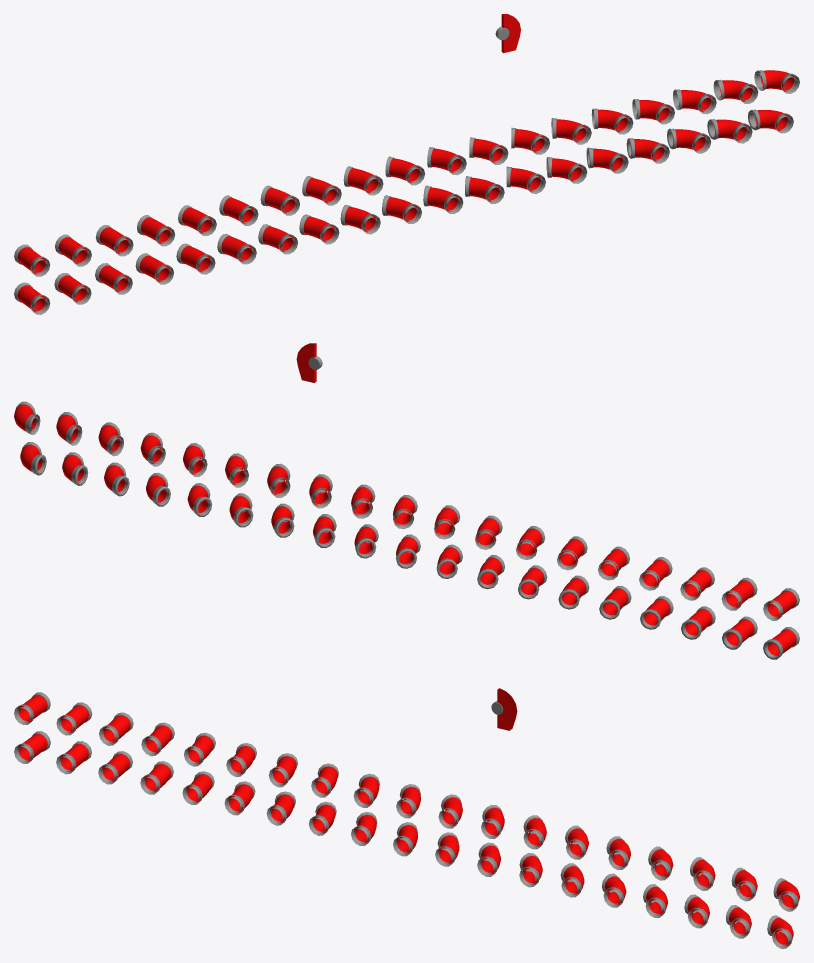
The model's file is Assets_12_pipes_door_ID.FBX.
The picture shows the model from 3 angles, top to bottom: view 1: azimuth 30°, elevation 25°; view 2: azimuth 150°, elevation 25°; view 3: azimuth 330°, elevation 25°; orthographic projection.
Parts seen in each view (by area): view 1: Pipe_END_90, Pipe_90, Pipe_END_85, Pipe_85, Pipe_END_80, Pipe_80, Pipe_END_75, Pipe_75, Pipe_END_70, Pipe_70, Pipe_END_65, Pipe_65 (+27 smaller); view 2: Door_4x4_R, Pipe_END_0, Pipe_0, Pipe_END_5, Pipe_5, Pipe_END_10, Pipe_10, Pipe_END_15, Pipe_15, Pipe_20, Pipe_END_20, Pipe_END_25 (+27 smaller); view 3: Door_4x4_R, Pipe_END_0, Pipe_0, Pipe_5, Pipe_END_5, Pipe_10, Pipe_END_10, Pipe_END_15, Pipe_15, Pipe_END_20, Pipe_20, Pipe_END_25 (+27 smaller).
Part boxes in pixels (<box>): Pipe_END_90: <box>748,109,793,133</box>; Pipe_90: <box>754,70,799,93</box>; Pipe_END_85: <box>707,119,752,143</box>; Pipe_85: <box>713,79,758,103</box>; Pipe_END_80: <box>667,128,710,153</box>; Pipe_80: <box>673,89,716,114</box>; Pipe_END_75: <box>626,138,669,163</box>; Pipe_75: <box>632,99,674,124</box>; Pipe_END_70: <box>586,147,628,173</box>; Pipe_70: <box>591,108,633,134</box>; Pipe_END_65: <box>546,157,587,183</box>; Pipe_65: <box>551,118,591,144</box>; Door_4x4_R: <box>296,343,322,382</box>; Pipe_END_0: <box>763,627,799,659</box>; Pipe_0: <box>763,588,799,620</box>; Pipe_END_5: <box>722,616,757,649</box>; Pipe_5: <box>721,577,757,610</box>; Pipe_END_10: <box>681,606,715,639</box>; Pipe_10: <box>680,567,714,600</box>; Pipe_END_15: <box>640,596,673,629</box>; Pipe_15: <box>639,557,672,590</box>; Pipe_20: <box>598,546,629,580</box>; Pipe_END_20: <box>599,586,631,619</box>; Pipe_END_25: <box>558,575,589,609</box>; Door_4x4_R: <box>491,688,517,730</box>; Pipe_END_0: <box>14,731,50,763</box>; Pipe_0: <box>14,692,50,724</box>; Pipe_5: <box>56,702,92,735</box>; Pipe_END_5: <box>56,741,91,774</box>; Pipe_10: <box>99,712,133,745</box>; Pipe_END_10: <box>98,751,132,784</box>; Pipe_END_15: <box>140,761,173,794</box>; Pipe_15: <box>141,722,174,756</box>; Pipe_END_20: <box>182,771,214,804</box>; Pipe_20: <box>184,732,215,766</box>; Pipe_END_25: <box>224,781,255,815</box>.
Size of the model in its own units: 73.74 by 16.99 by 3.35.
